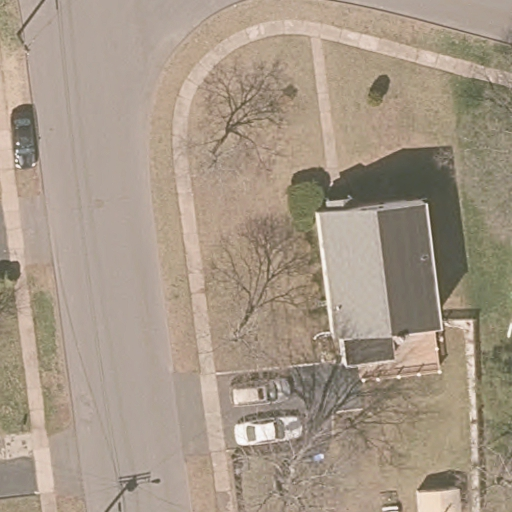DT: (13, 29, 37, 57)
